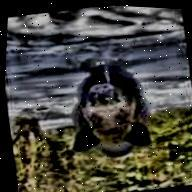boar: (49, 44, 164, 171)
